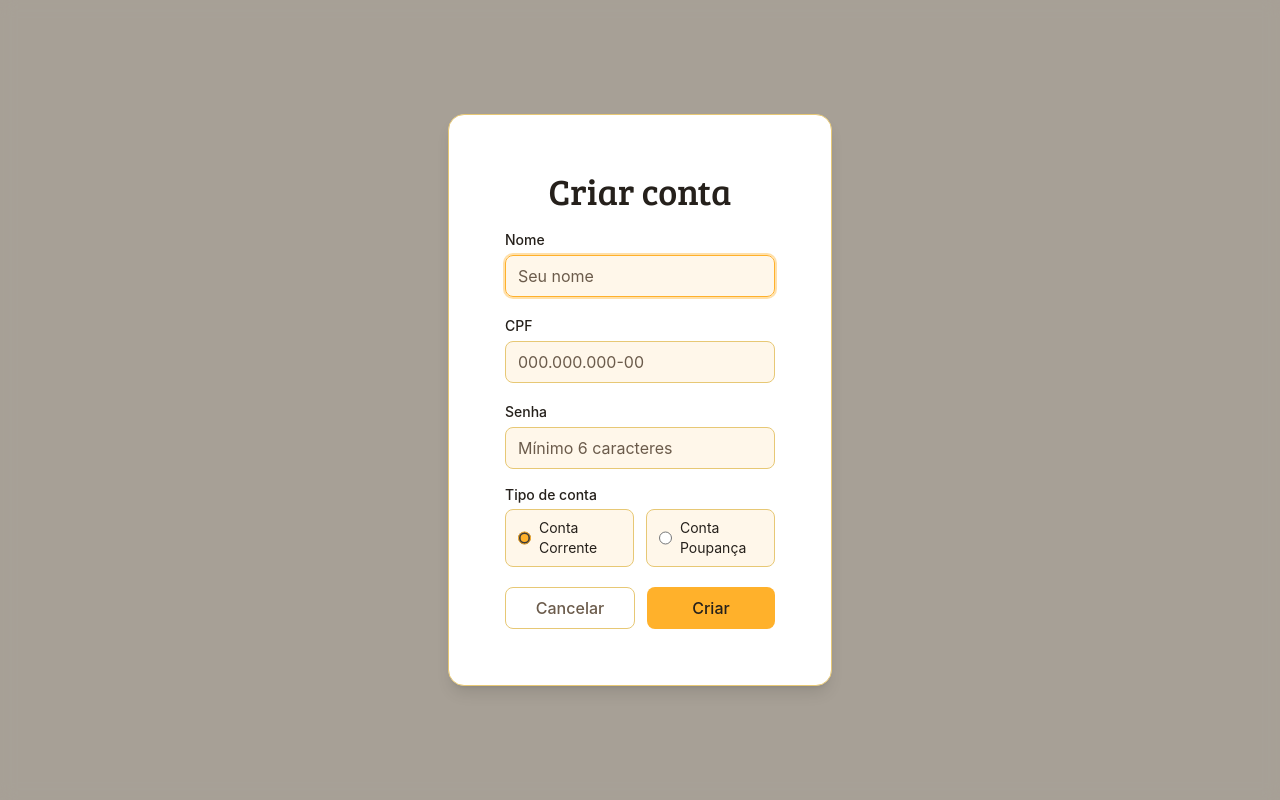
Test: CreateAccountModal › mostra o erro do backend (409) sem fechar o modal
In the field with placeholder "Seu nome": (640, 276) left=505, top=255, right=775, bottom=297, type "Ana Teste"
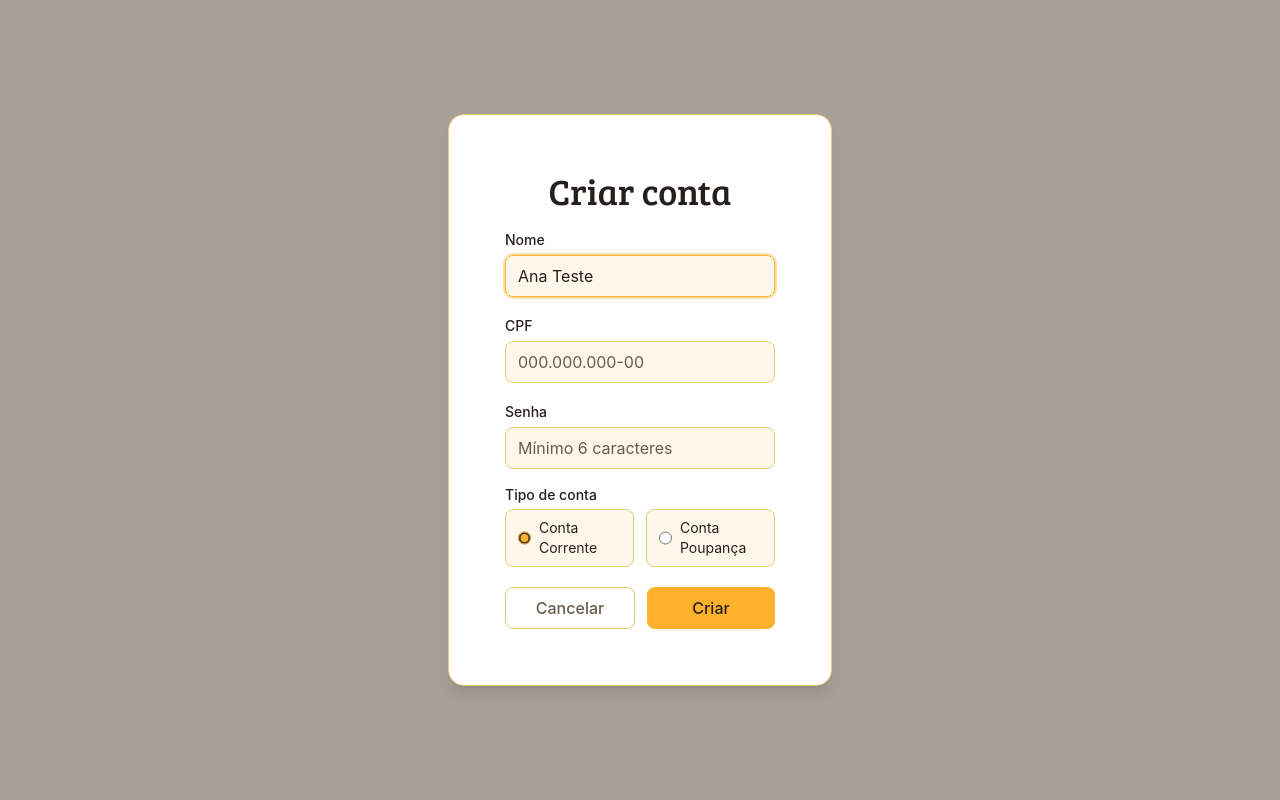
In the field with placeholder "000.000.000-00": (640, 362) left=505, top=341, right=775, bottom=383, type "11122233344"
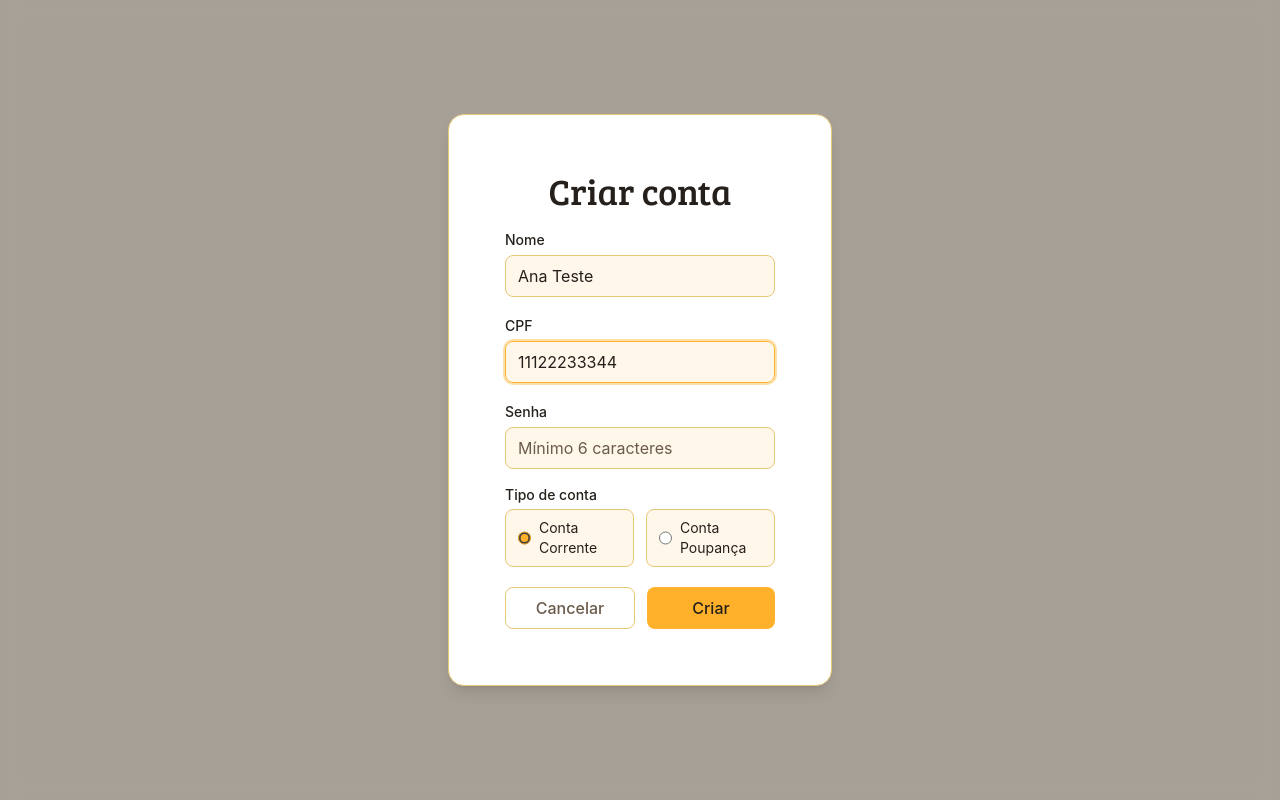
In the password field with placeholder "Mínimo 6 caracteres": (640, 448) left=505, top=427, right=775, bottom=469, type "senha123"
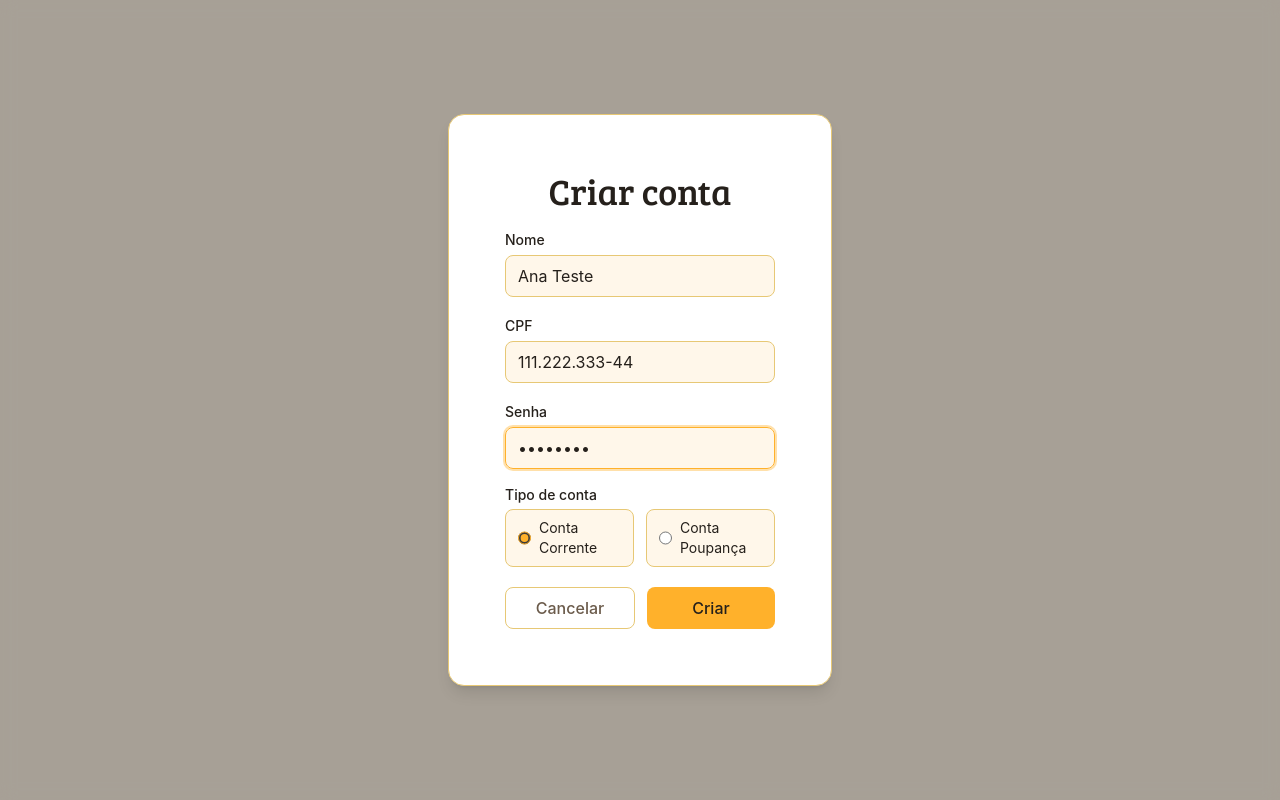
Click the button "Criar": (711, 608) left=647, top=587, right=775, bottom=629
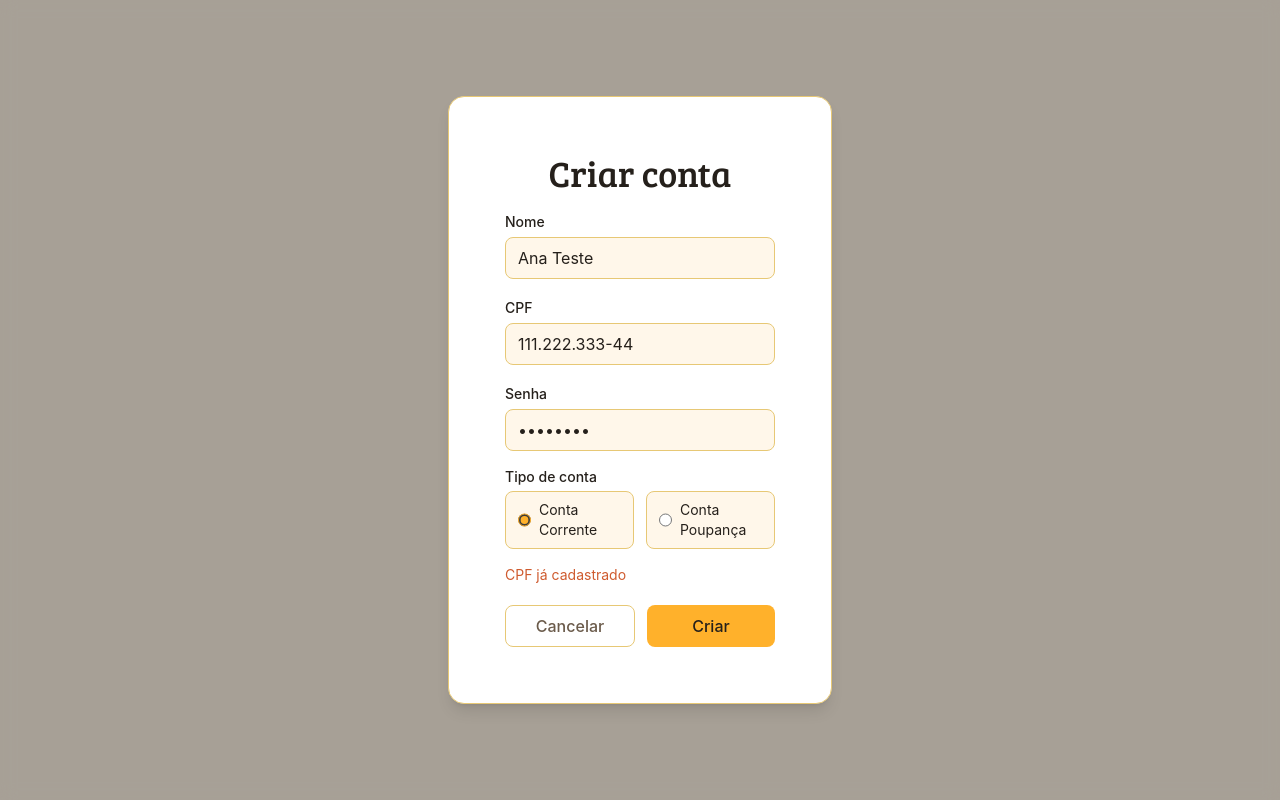
Expected: the text "CPF já cadastrado" is shown, left=505, top=566, right=626, bottom=583
